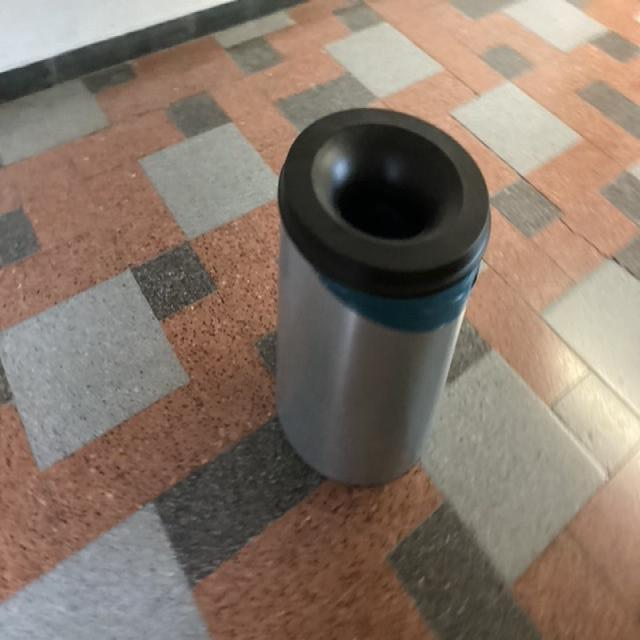garbage container: (246, 85, 498, 498)
